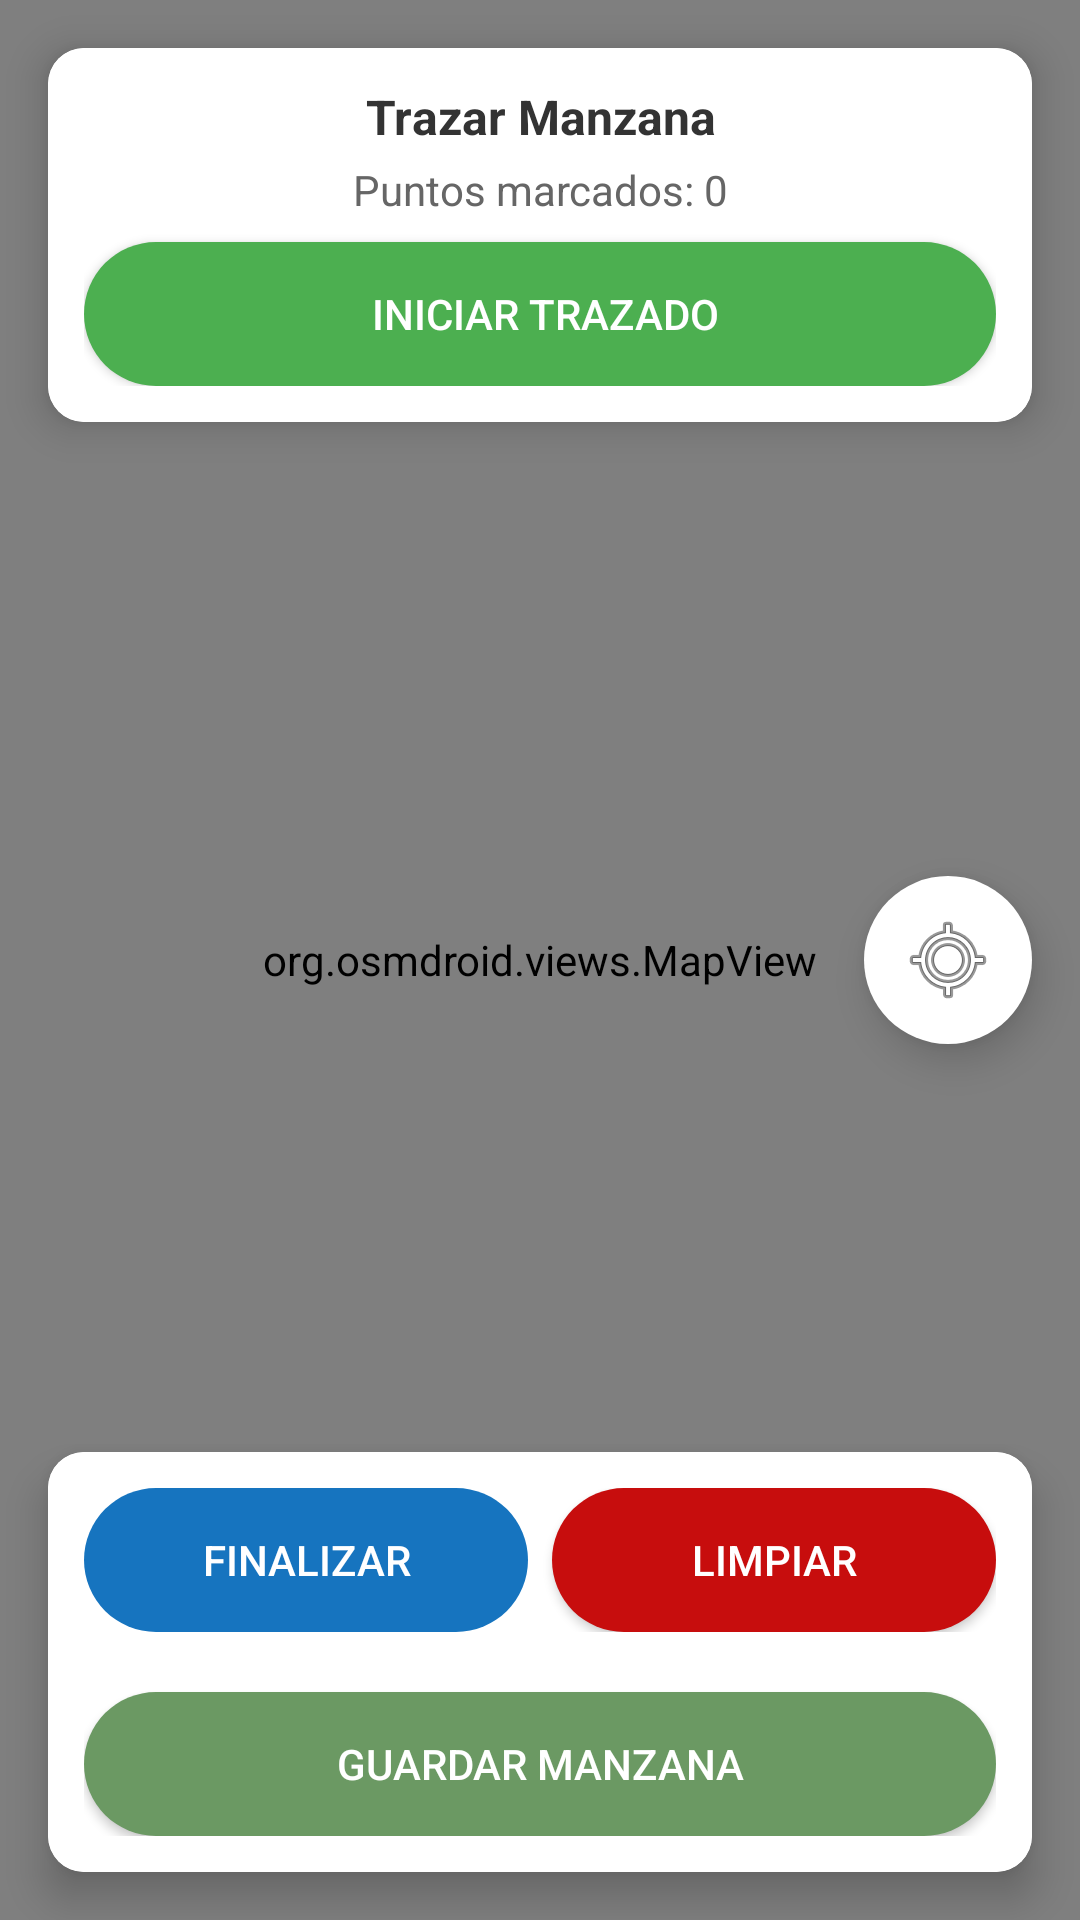

Named icons in this screenshot (1080 × 1920) and their bounding boxes, region(x1, y1, x2, y2):
Mi ubicación: region(864, 876, 1032, 1044)
